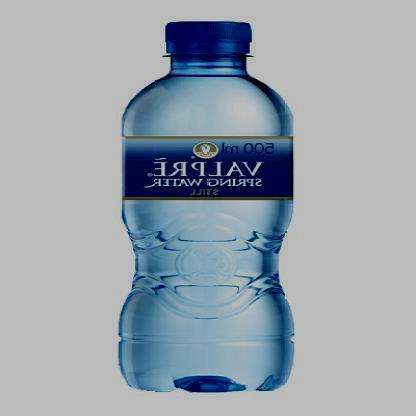bottle: (114, 18, 299, 396)
